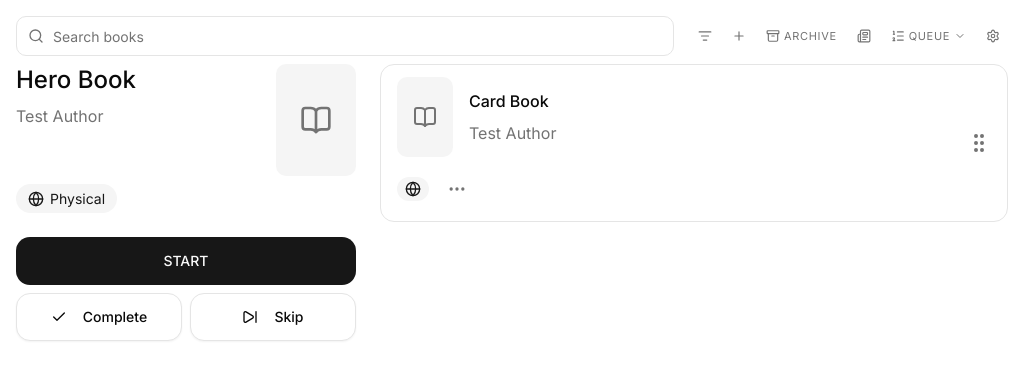
Test: ReadingList external links open via real anchors (#197) › keeps link-less book sources as a disabled non-link menu entry
Press the mouse on the button without text below "Card Book" at point(457, 189), box x1=437 y1=169 x2=477 y2=209
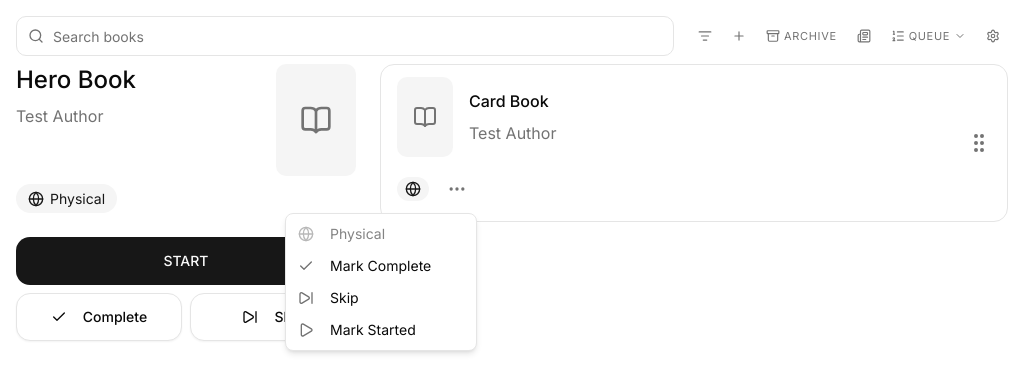
Check: the text "Physical" is shown, box x1=330 y1=224 x2=385 y2=244
